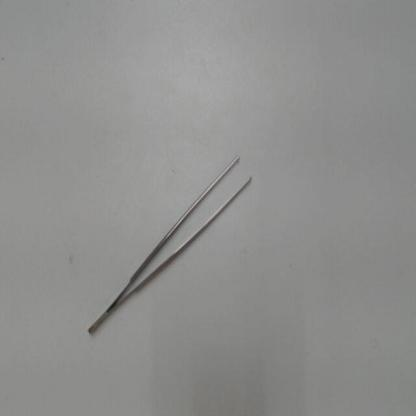Gillies Toothed Dissector: (83, 148, 260, 344)
